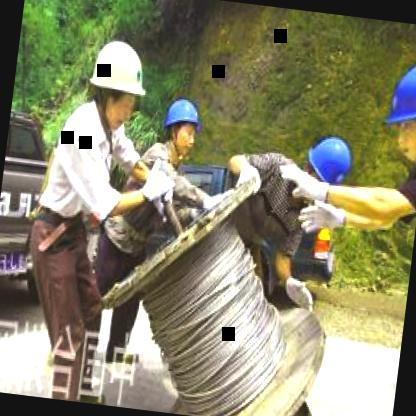helmet: (77, 28, 156, 136), (376, 48, 416, 175), (300, 130, 360, 197), (156, 92, 206, 162)
